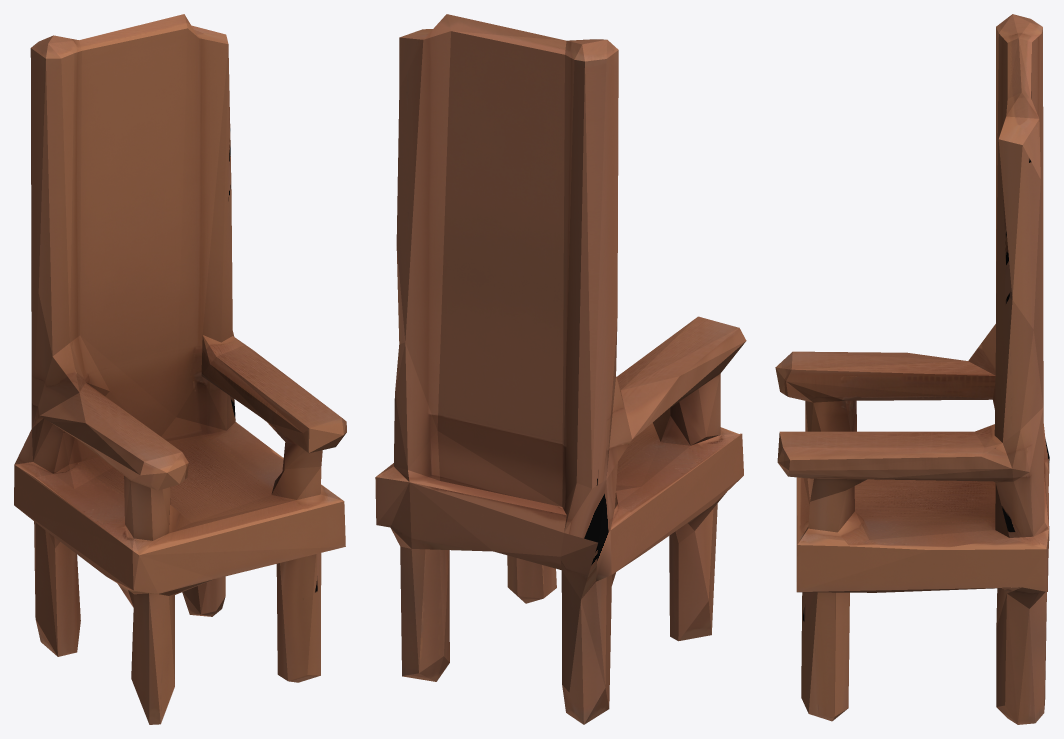
The model's file is chair.fbx.
3 views of the same model, side by side, from view 1: azimuth 30°, elevation 25°; view 2: azimuth 150°, elevation 25°; view 3: azimuth 270°, elevation 25° (orthographic). The views are drawn at different scales.
Visible parts, largest first — view 1: Mesh0; view 2: Mesh0; view 3: Mesh0.
Part boxes in pixels (x1,y1,x2,y2): Mesh0: (14, 14, 346, 724); Mesh0: (375, 14, 746, 724); Mesh0: (775, 14, 1049, 724).
Bounding box in the file's own units: 91.22 × 252 × 99.81.
Materials: 1 (1 with a texture image).
